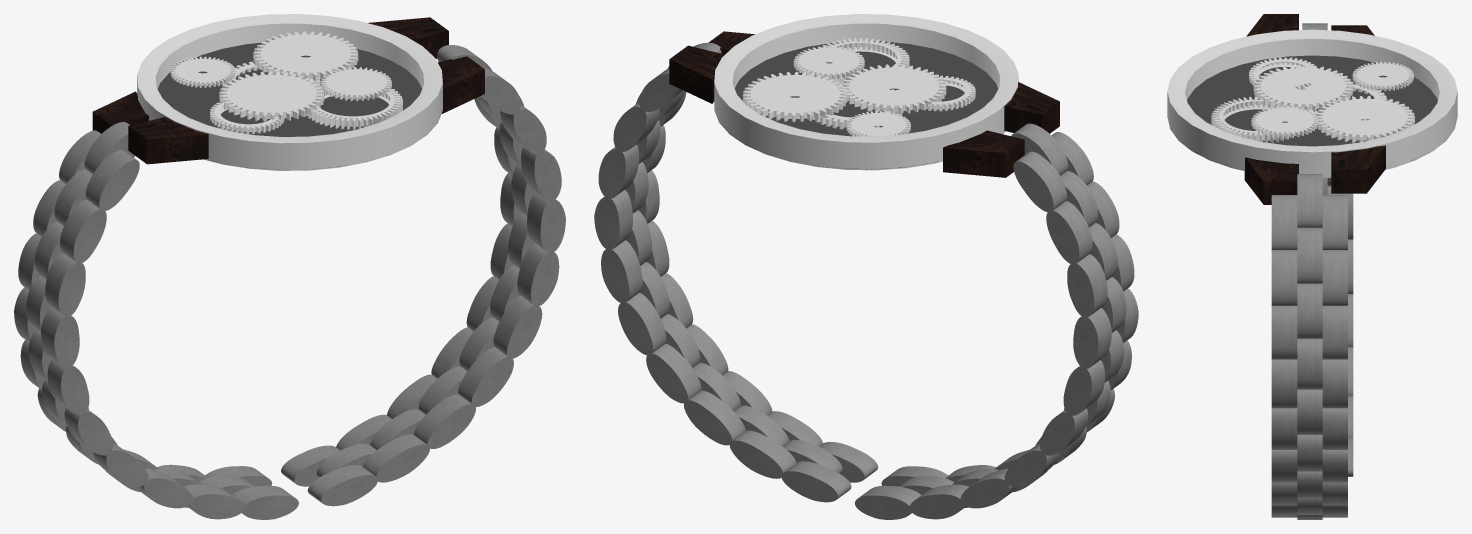
The model's file is watch.fbx.
The picture shows the model from 3 angles, left to right: view 1: azimuth 30°, elevation 25°; view 2: azimuth 150°, elevation 25°; view 3: azimuth 270°, elevation 25°; orthographic projection. The views are drawn at different scales.
Visible parts, largest first — view 1: Cylinder.004, Cylinder.005, Cylinder.003, Cylinder, Cylinder.002, Gear.003, Gear.004, Cube, Cube.003, Gear.005, Gear.001, Gear.009 (+3 smaller); view 2: Cylinder.004, Cylinder.005, Cylinder.003, Cylinder, Cylinder.002, Gear.004, Gear.003, Cube.001, Cube.002, Cube, Gear.005, Gear.001 (+2 smaller); view 3: Cylinder.004, Cylinder.003, Cylinder, Cylinder.002, Gear.004, Gear.003, Cube.002, Cylinder.005, Cube.003, Gear.005, Gear.001, Gear.009 (+2 smaller).
Boxes of the visible parts, left/top/right/bottom form: Cylinder.004: left=281, top=45, right=565, bottom=506; Cylinder.005: left=14, top=122, right=298, bottom=519; Cylinder.003: left=153, top=22, right=426, bottom=137; Cylinder: left=137, top=14, right=442, bottom=170; Cylinder.002: left=157, top=43, right=421, bottom=136; Gear.003: left=219, top=71, right=324, bottom=121; Gear.004: left=253, top=31, right=358, bottom=80; Cube: left=128, top=117, right=208, bottom=164; Cube.003: left=438, top=56, right=484, bottom=113; Gear.005: left=320, top=67, right=391, bottom=101; Gear.001: left=170, top=56, right=235, bottom=87; Gear.009: left=306, top=79, right=402, bottom=129; Cylinder.004: left=594, top=42, right=878, bottom=502; Cylinder.005: left=855, top=123, right=1138, bottom=519; Cylinder.003: left=730, top=22, right=1002, bottom=136; Cylinder: left=714, top=14, right=1018, bottom=170; Cylinder.002: left=734, top=41, right=997, bottom=136; Gear.004: left=743, top=72, right=847, bottom=121; Gear.003: left=842, top=64, right=946, bottom=114; Cube.001: left=943, top=130, right=1024, bottom=177; Cube.002: left=669, top=45, right=724, bottom=103; Cube: left=1004, top=82, right=1059, bottom=133; Gear.005: left=793, top=46, right=864, bottom=79; Gear.001: left=846, top=111, right=910, bottom=136; Cylinder.004: left=1271, top=174, right=1347, bottom=519; Cylinder.003: left=1183, top=37, right=1441, bottom=146; Cylinder: left=1167, top=29, right=1457, bottom=177; Cylinder.002: left=1187, top=55, right=1437, bottom=146; Gear.004: left=1315, top=96, right=1414, bottom=142; Gear.003: left=1253, top=65, right=1353, bottom=112; Cube.002: left=1331, top=145, right=1385, bottom=193; Cylinder.005: left=1302, top=23, right=1353, bottom=476; Cube.003: left=1244, top=157, right=1298, bottom=204; Gear.005: left=1251, top=106, right=1318, bottom=138; Gear.001: left=1352, top=62, right=1413, bottom=91; Gear.009: left=1211, top=96, right=1296, bottom=142.
Size of the model in its own units: 385 by 301 by 200.
12 materials, 6 textured.
